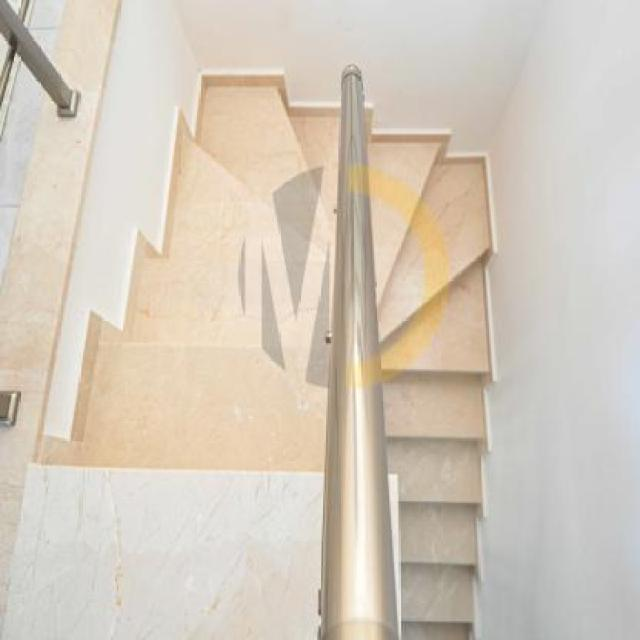stair: (28, 57, 528, 638)
